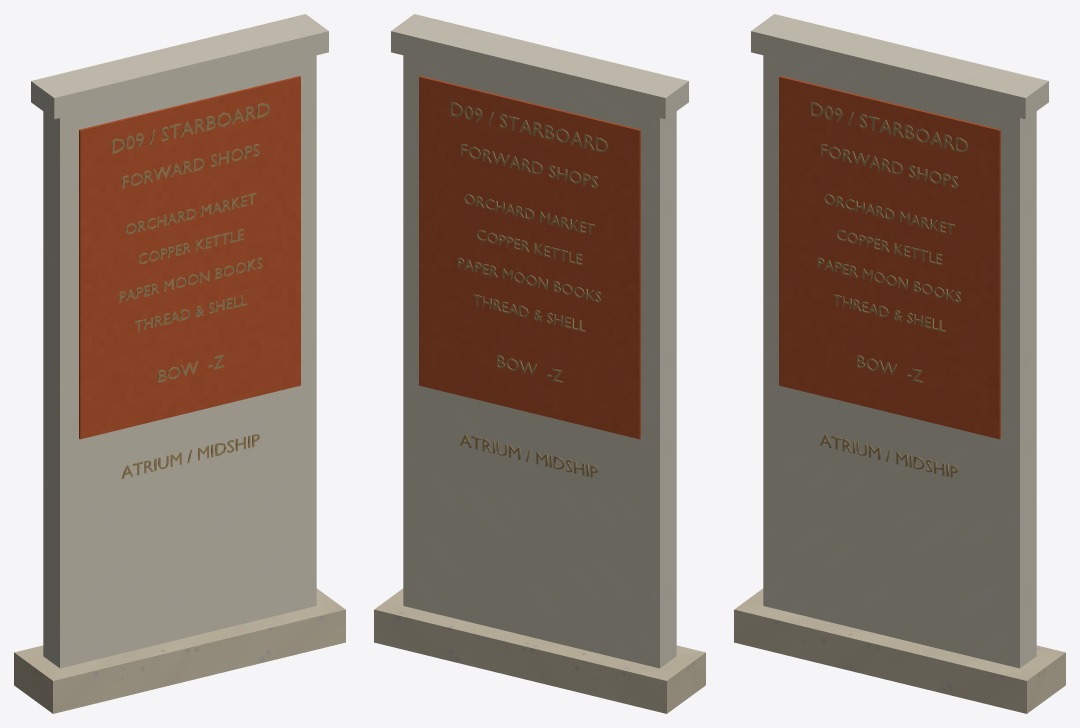
Rendered from guide_starboard_forward_r002.glb.
3 renders of one model, left to right at view 1: azimuth 30°, elevation 25°; view 2: azimuth 150°, elevation 25°; view 3: azimuth 330°, elevation 25°, orthographic.
Parts seen in each view (by area): view 1: profiled_column, recessed_orange_directory, weighted_plinth, crown, heading, district, atrium, venue_2, venue_0, venue_3, venue_1; view 2: profiled_column, recessed_orange_directory_back, weighted_plinth, crown, heading_back, district_back, atrium_back, venue_2_back, venue_0_back, venue_3_back, venue_1_back; view 3: profiled_column, recessed_orange_directory, weighted_plinth, crown, heading, district, atrium, venue_2, venue_0, venue_3, venue_1.
Part boxes in pixels (<box>): profiled_column: <box>43,55,316,668</box>; recessed_orange_directory: <box>79,76,300,439</box>; weighted_plinth: <box>14,588,345,713</box>; crown: <box>31,14,328,119</box>; heading: <box>112,103,269,153</box>; district: <box>122,144,259,188</box>; atrium: <box>121,434,259,478</box>; venue_2: <box>119,257,262,302</box>; venue_0: <box>125,193,256,234</box>; venue_3: <box>134,295,247,331</box>; venue_1: <box>138,229,243,264</box>; profiled_column: <box>403,55,676,668</box>; recessed_orange_directory_back: <box>419,76,640,439</box>; weighted_plinth: <box>374,588,705,713</box>; crown: <box>391,14,688,119</box>; heading_back: <box>450,101,607,152</box>; district_back: <box>461,143,597,188</box>; atrium_back: <box>460,434,598,477</box>; venue_2_back: <box>457,257,600,302</box>; venue_0_back: <box>464,194,594,234</box>; venue_3_back: <box>473,294,585,332</box>; venue_1_back: <box>476,230,582,265</box>; profiled_column: <box>763,55,1036,668</box>; recessed_orange_directory: <box>779,76,1000,439</box>; weighted_plinth: <box>734,588,1065,713</box>; crown: <box>751,14,1048,119</box>; heading: <box>810,101,967,152</box>; district: <box>821,143,957,188</box>; atrium: <box>820,434,958,477</box>; venue_2: <box>817,257,960,302</box>; venue_0: <box>824,194,954,234</box>; venue_3: <box>833,294,945,332</box>; venue_1: <box>836,230,942,265</box>.
Size of the model in its own units: 1.3 by 2.58 by 0.3.
Materials: 4 (4 with a texture image).
